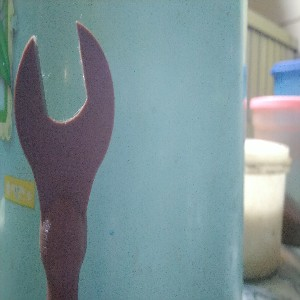spanner: (11, 21, 118, 300)
